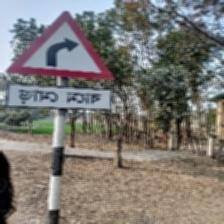Left-Turn: (4, 9, 117, 113)
